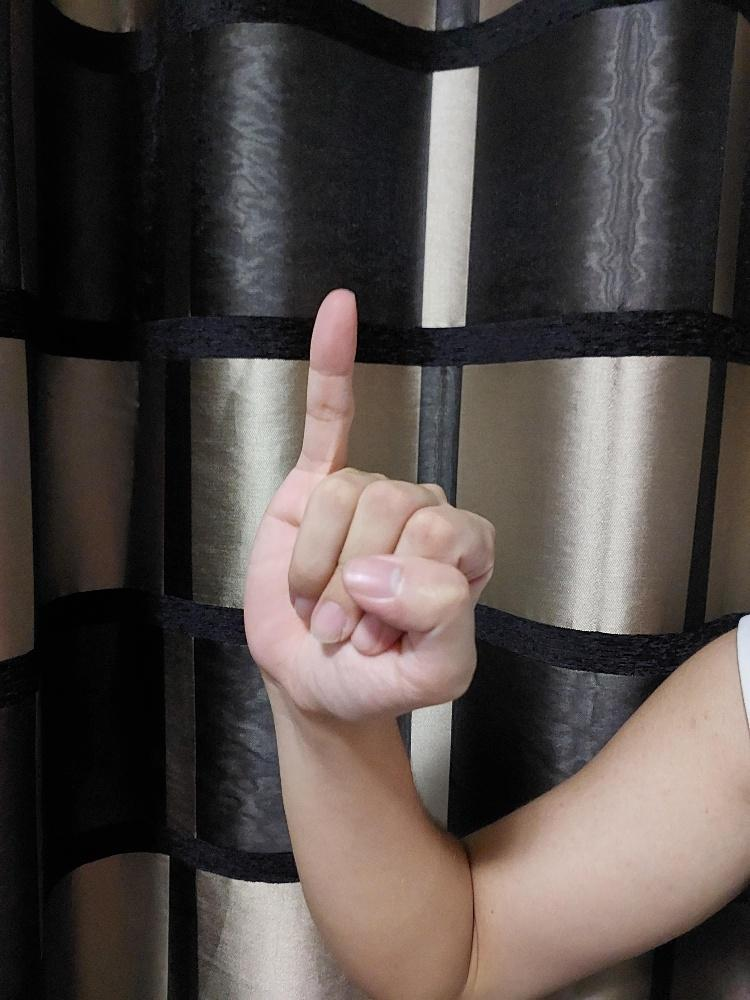i: (240, 285, 497, 727)
